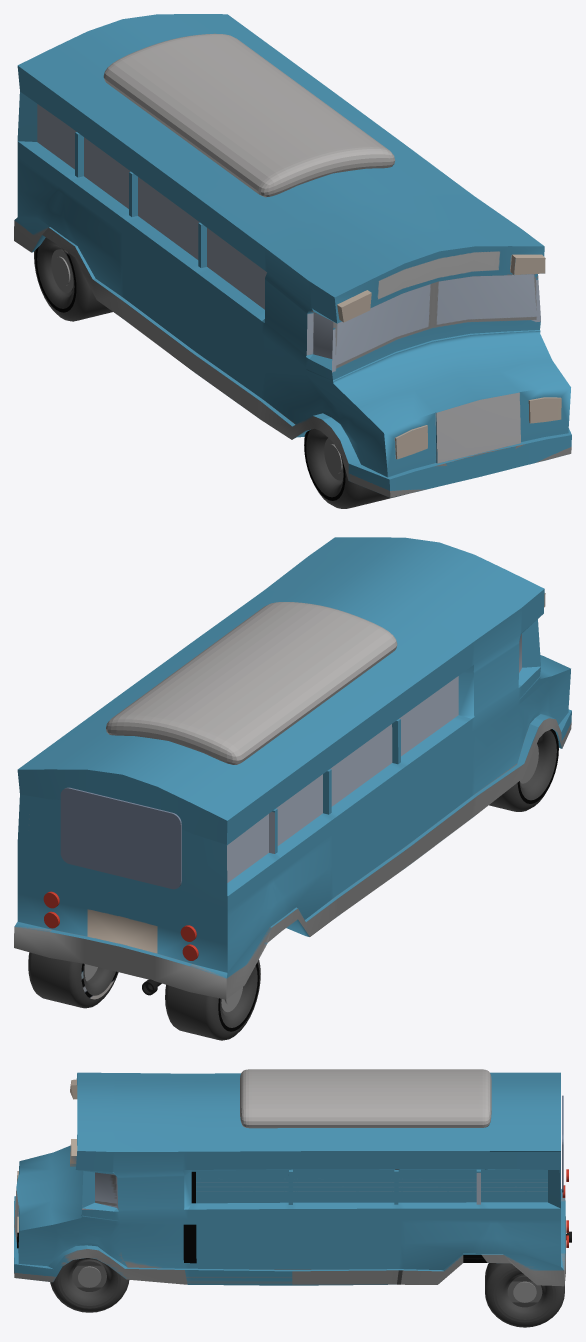
The model's file is Bus_SeparateWheels.fbx.
The picture shows the model from 3 angles, top to bottom: view 1: azimuth 30°, elevation 25°; view 2: azimuth 150°, elevation 25°; view 3: azimuth 270°, elevation 25°; orthographic projection. The views are drawn at different scales.
Parts seen in each view (by area): view 1: Bus_Body, RearWheel_Left; view 2: Bus_Body, RearWheel_Left, RearWheel_Right; view 3: Bus_Body, RearWheel_Right.
Boxes of the visible parts, box(x1,y1,x2,y2) form: Bus_Body: box(14, 14, 571, 508); RearWheel_Left: box(34, 237, 112, 321); Bus_Body: box(14, 537, 571, 999); RearWheel_Left: box(165, 960, 260, 1040); RearWheel_Right: box(28, 952, 118, 1008); Bus_Body: box(14, 1069, 571, 1312); RearWheel_Right: box(485, 1263, 564, 1327).
Bounding box in the file's own units: 3.86 × 4.38 × 10.53.
1 material, 1 textured.
